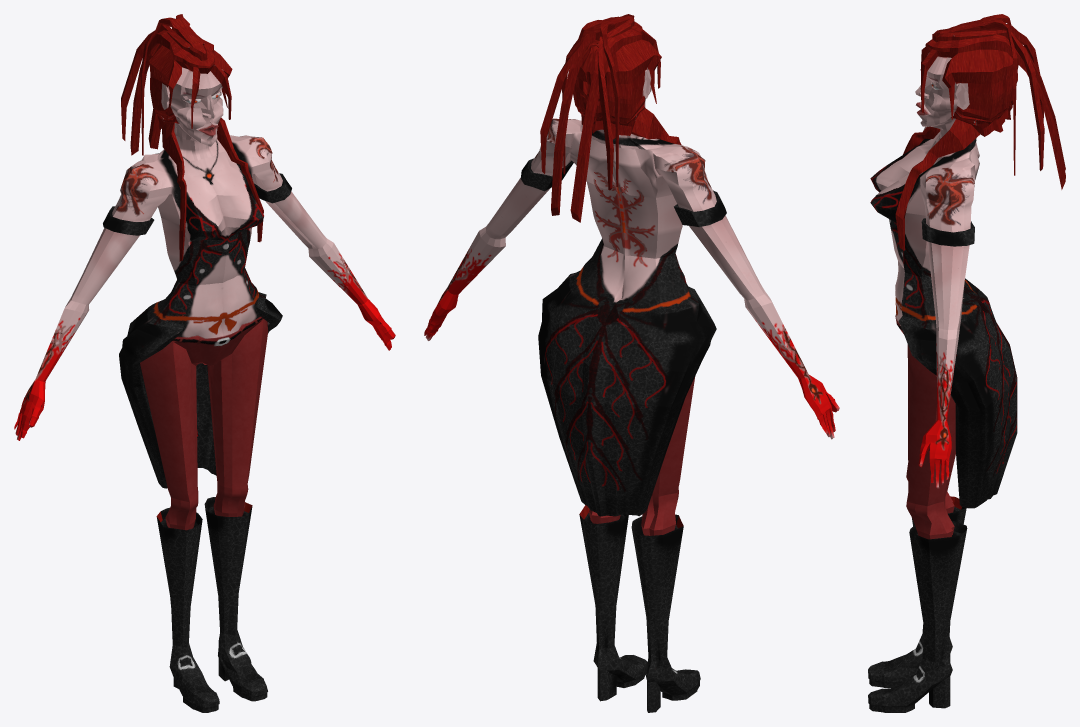
Rendered from Sum_FBX.fbx.
3 renders of one model, left to right at view 1: azimuth 30°, elevation 25°; view 2: azimuth 150°, elevation 25°; view 3: azimuth 270°, elevation 25°, orthographic. The views are drawn at different scales.
Visible parts, largest first — view 1: pCylinder3; view 2: pCylinder3; view 3: pCylinder3.
Boxes of the visible parts, <box> form: pCylinder3: <box>14,14,395,712</box>; pCylinder3: <box>424,14,839,712</box>; pCylinder3: <box>868,14,1065,712</box>.
Size of the model in its own units: 120 by 198 by 52.49.
